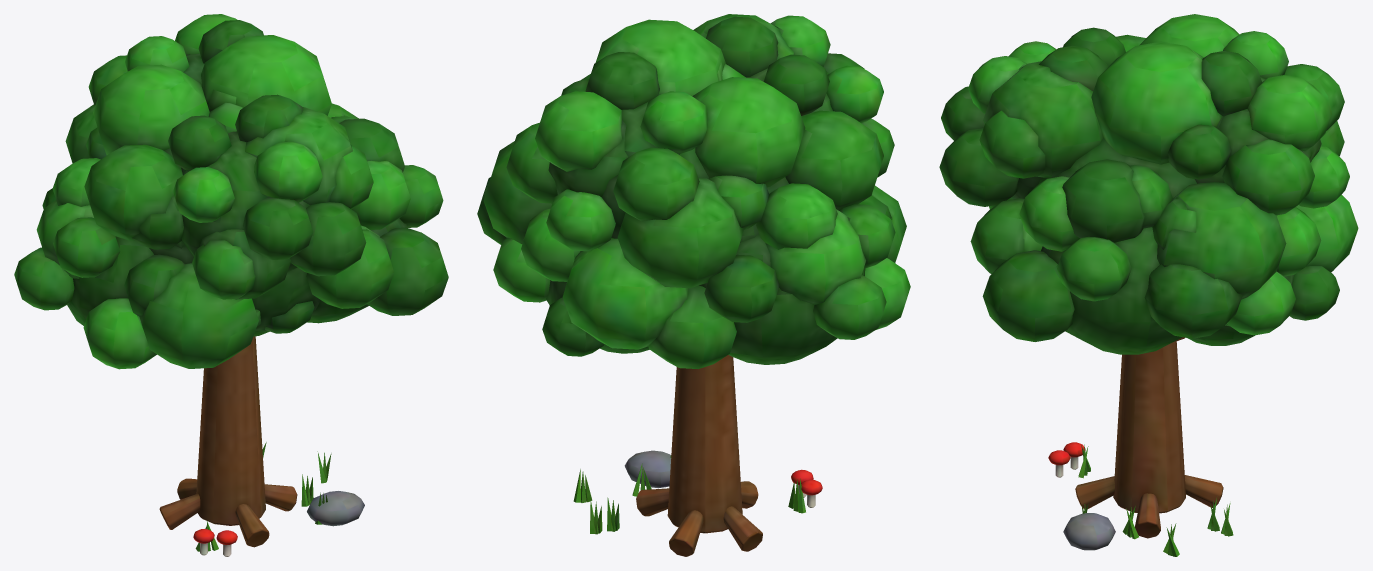
The model's file is tree_obs0.glb.
3 renders of one model, left to right at view 1: azimuth 30°, elevation 25°; view 2: azimuth 150°, elevation 25°; view 3: azimuth 270°, elevation 25°, orthographic. The views are drawn at different scales.
Visible parts, largest first — view 1: crown, tree_obs0; view 2: crown, tree_obs0; view 3: crown, tree_obs0.
Boxes of the visible parts, x1,y1,x2,y2 form: crown: (14,14,448,369); tree_obs0: (159,336,364,556); crown: (477,14,910,368); tree_obs0: (573,355,822,556); crown: (939,14,1358,354); tree_obs0: (1048,337,1233,556).
Bounding box in the file's own units: 1.2 × 1.41 × 1.11.
Materials: 1 (1 with a texture image).
